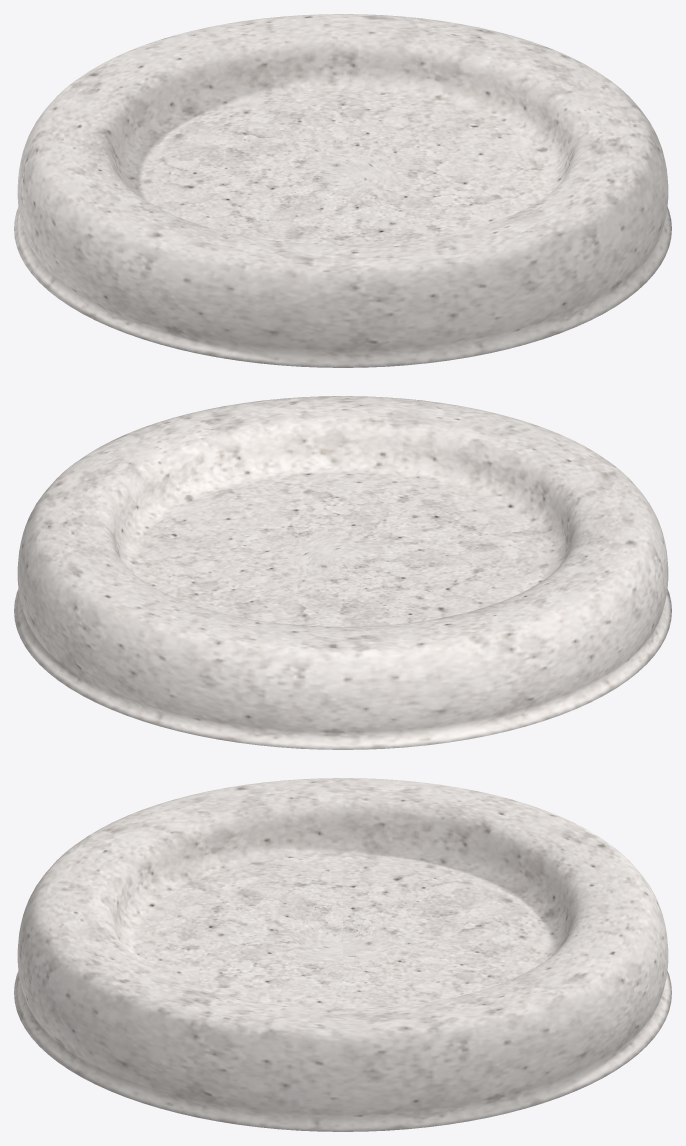
The model's file is tzaar-tott-white.glb.
The picture shows the model from 3 angles, top to bottom: view 1: azimuth 30°, elevation 25°; view 2: azimuth 150°, elevation 25°; view 3: azimuth 270°, elevation 25°; orthographic projection.
Visible parts, largest first — view 1: tzaar-tott-white; view 2: tzaar-tott-white; view 3: tzaar-tott-white.
Boxes of the visible parts, x1,y1,x2,y2 form: tzaar-tott-white: (14, 14, 671, 367); tzaar-tott-white: (14, 396, 671, 749); tzaar-tott-white: (14, 778, 671, 1131).
Bounding box in the file's own units: 0.0283 × 0.00435 × 0.0283.
1 material, 1 textured.
